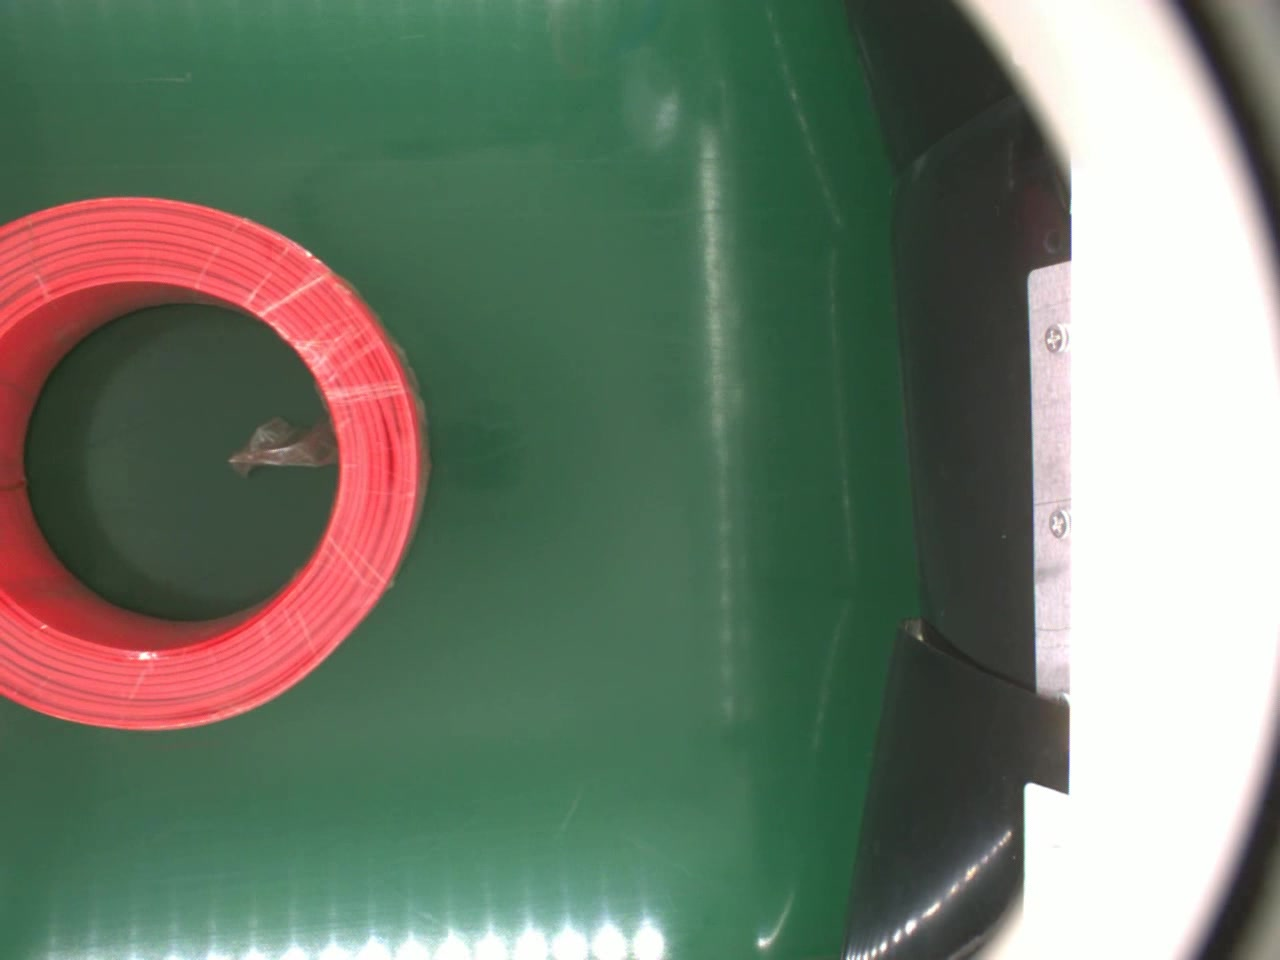red: (0, 194, 433, 735)
